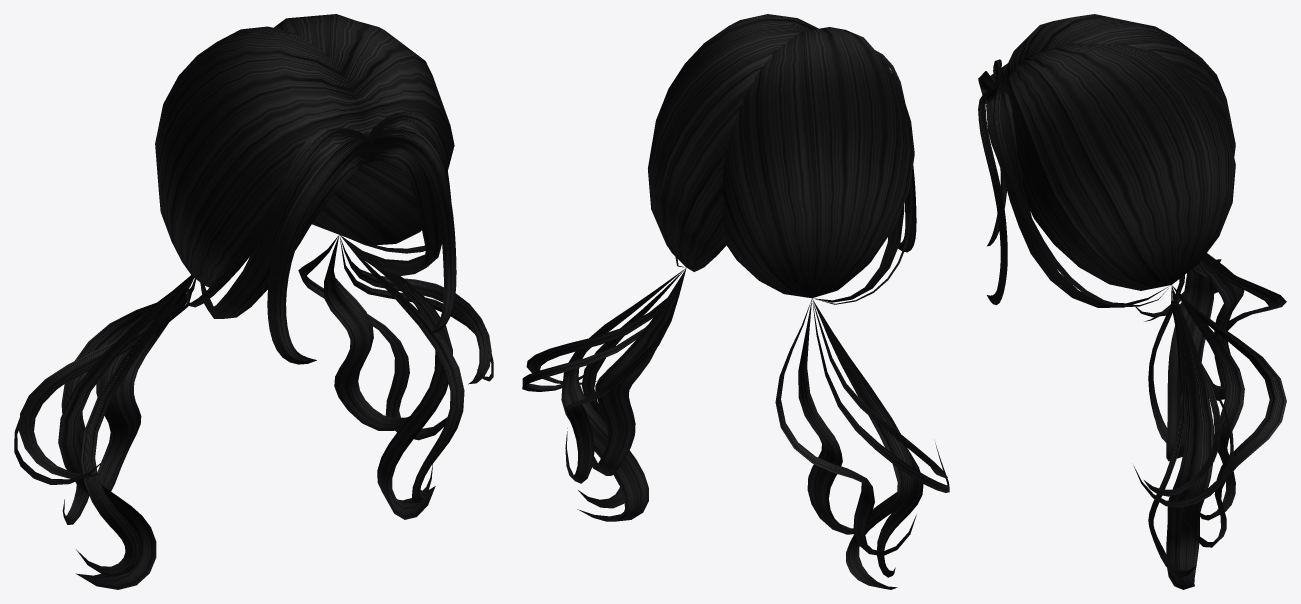
3 renders of one model, left to right at view 1: azimuth 30°, elevation 25°; view 2: azimuth 150°, elevation 25°; view 3: azimuth 270°, elevation 25°, orthographic. The views are drawn at different scales.
Parts seen in each view (by area): view 1: geometry_0; view 2: geometry_0; view 3: geometry_0.
Part boxes in pixels (<box>): geometry_0: <box>14,14,493,589</box>; geometry_0: <box>522,14,949,589</box>; geometry_0: <box>978,14,1286,589</box>.
Size of the model in its own units: 2.92 by 3.28 by 1.89.
1 material, 1 textured.
